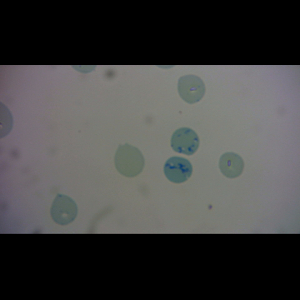aggregate reticulocyte: (163, 155, 194, 184), (170, 127, 201, 156)
erythrocyte: (113, 142, 145, 178), (217, 151, 246, 180)
punctate reticulocyte: (50, 193, 79, 226), (177, 74, 206, 105)
